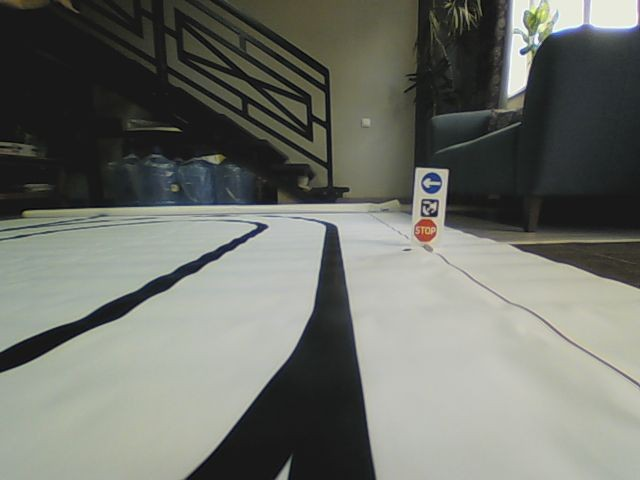Stop: (413, 217, 438, 242)
